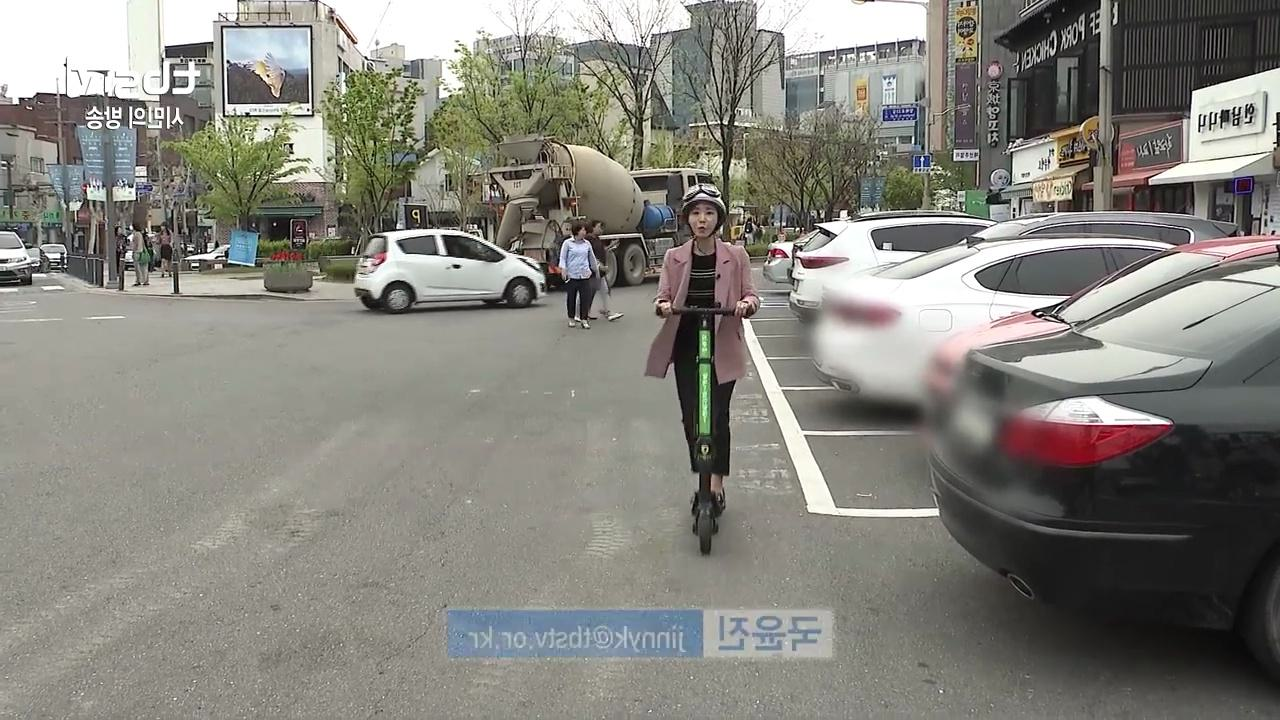helmet: (641, 182, 762, 558)
